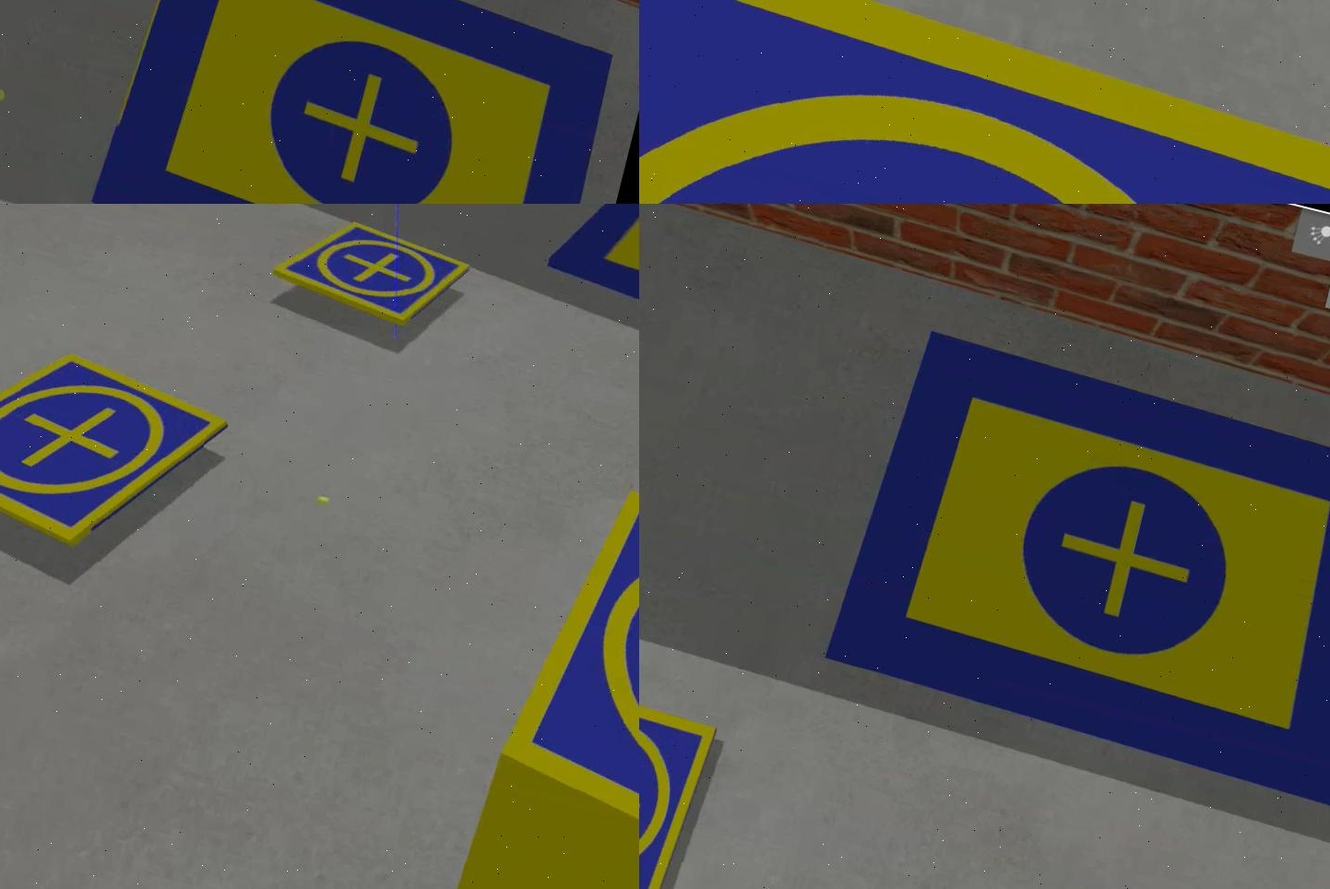large_base: (813, 323, 1328, 809), (72, 1, 637, 205), (532, 205, 637, 406)
small_base: (637, 1, 1328, 205), (469, 476, 637, 889), (0, 319, 232, 575), (264, 210, 470, 343), (637, 664, 718, 889)
